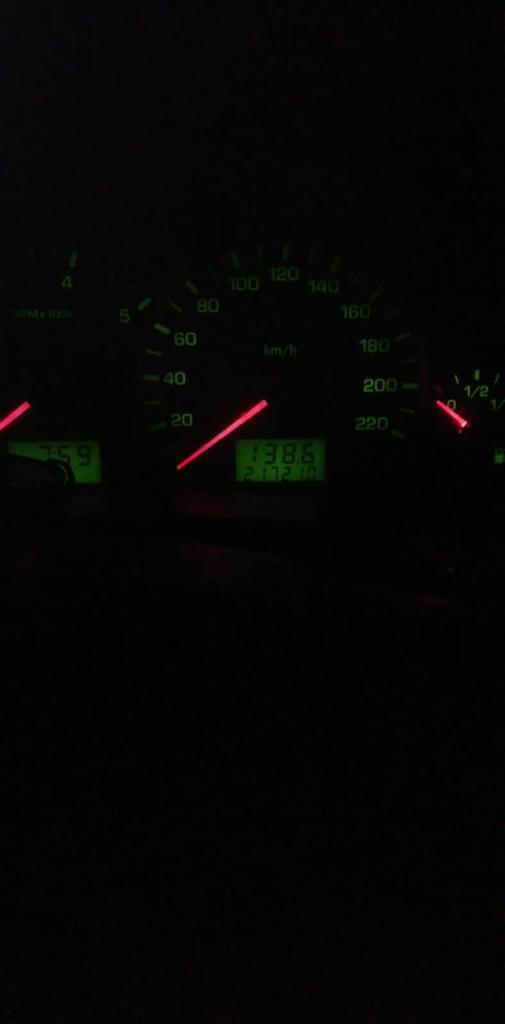0: (306, 465, 316, 481)
1: (252, 444, 258, 462), (300, 465, 305, 481), (261, 466, 266, 480)
2: (243, 466, 253, 481), (281, 466, 291, 481)
3: (264, 441, 276, 464)
6: (301, 442, 315, 463)
7: (271, 465, 279, 482)
8: (282, 441, 296, 463)
odometer: (233, 435, 328, 484)
